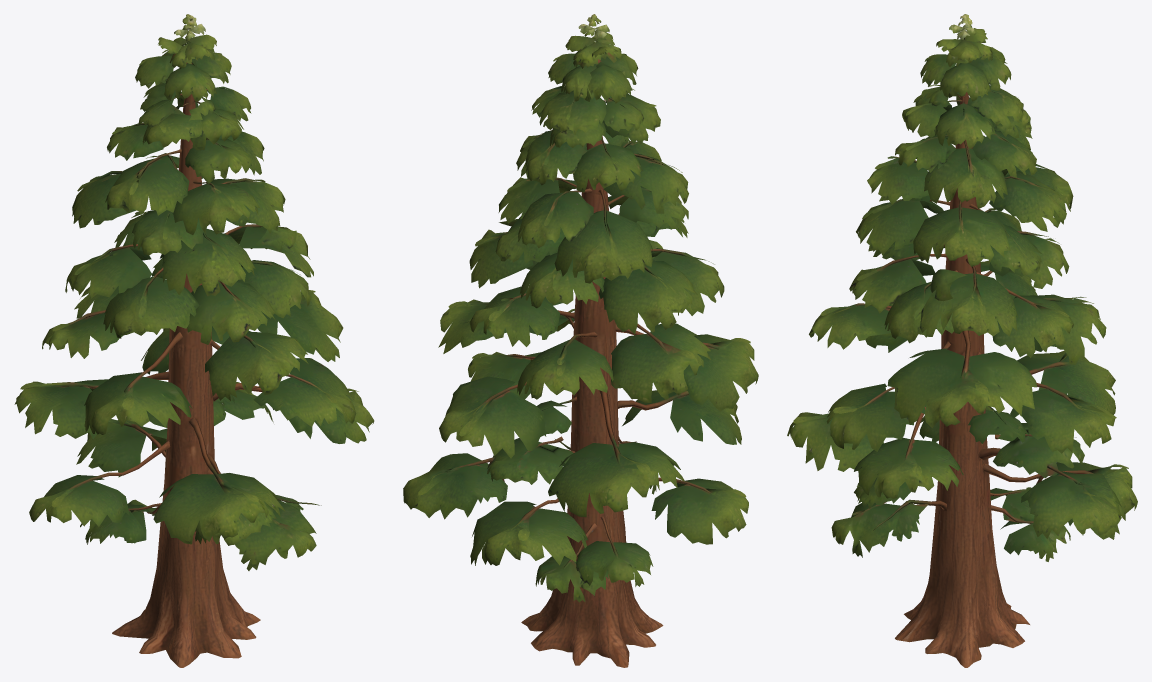
The model's file is output_model_url.glb.
3 views of the same model, side by side, from view 1: azimuth 30°, elevation 25°; view 2: azimuth 150°, elevation 25°; view 3: azimuth 270°, elevation 25° (orthographic).
Visible parts, largest first — view 1: tripo_node_868b07c2-d182-4631-9191-6c9e90e2a1eb; view 2: tripo_node_868b07c2-d182-4631-9191-6c9e90e2a1eb; view 3: tripo_node_868b07c2-d182-4631-9191-6c9e90e2a1eb.
Part boxes in pixels (x1=…): tripo_node_868b07c2-d182-4631-9191-6c9e90e2a1eb: x1=14, y1=14, x2=374, y2=667; tripo_node_868b07c2-d182-4631-9191-6c9e90e2a1eb: x1=403, y1=14, x2=758, y2=667; tripo_node_868b07c2-d182-4631-9191-6c9e90e2a1eb: x1=787, y1=14, x2=1137, y2=667.
Bounding box in the file's own units: 0.5063 × 0.9995 × 0.5142.
Materials: 1 (1 with a texture image).
